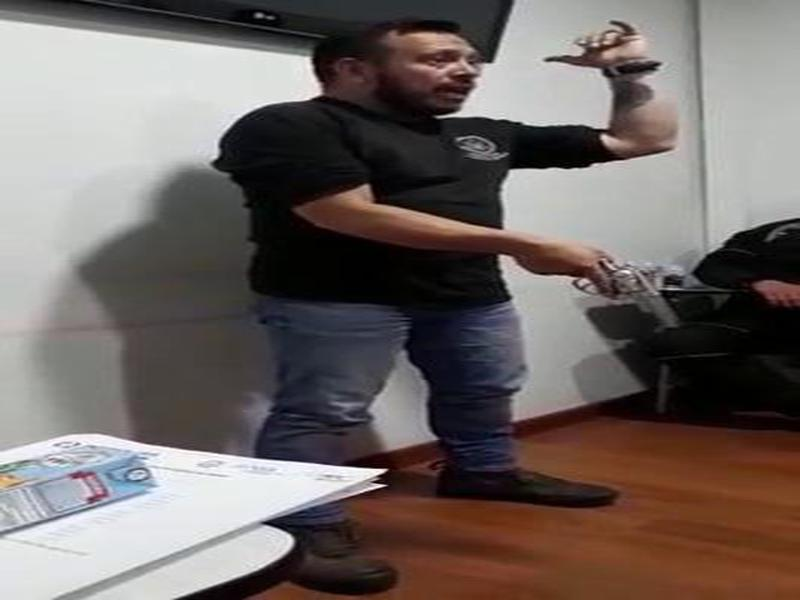Revolver: (545, 233, 710, 364)
